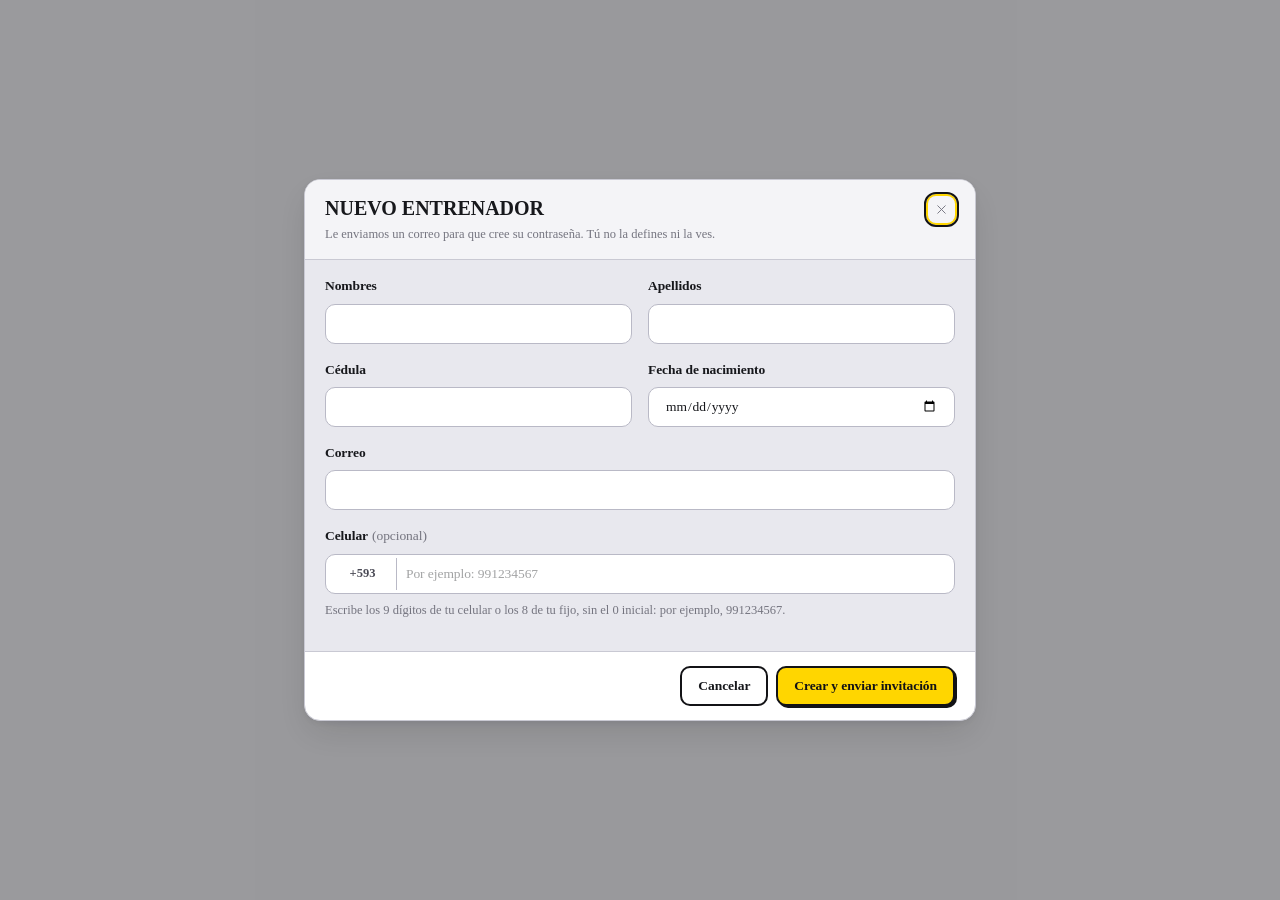
Test case: NewTrainerDialog › blocks the submit and says what is wrong with the celular
The width and height of the screenshot is (1280, 900).
In the field labelled "Nombres": (478, 324) [325, 304, 632, 344], type "Marta"
In the field labelled "Apellidos": (802, 324) [648, 304, 955, 344], type "Zambrano"
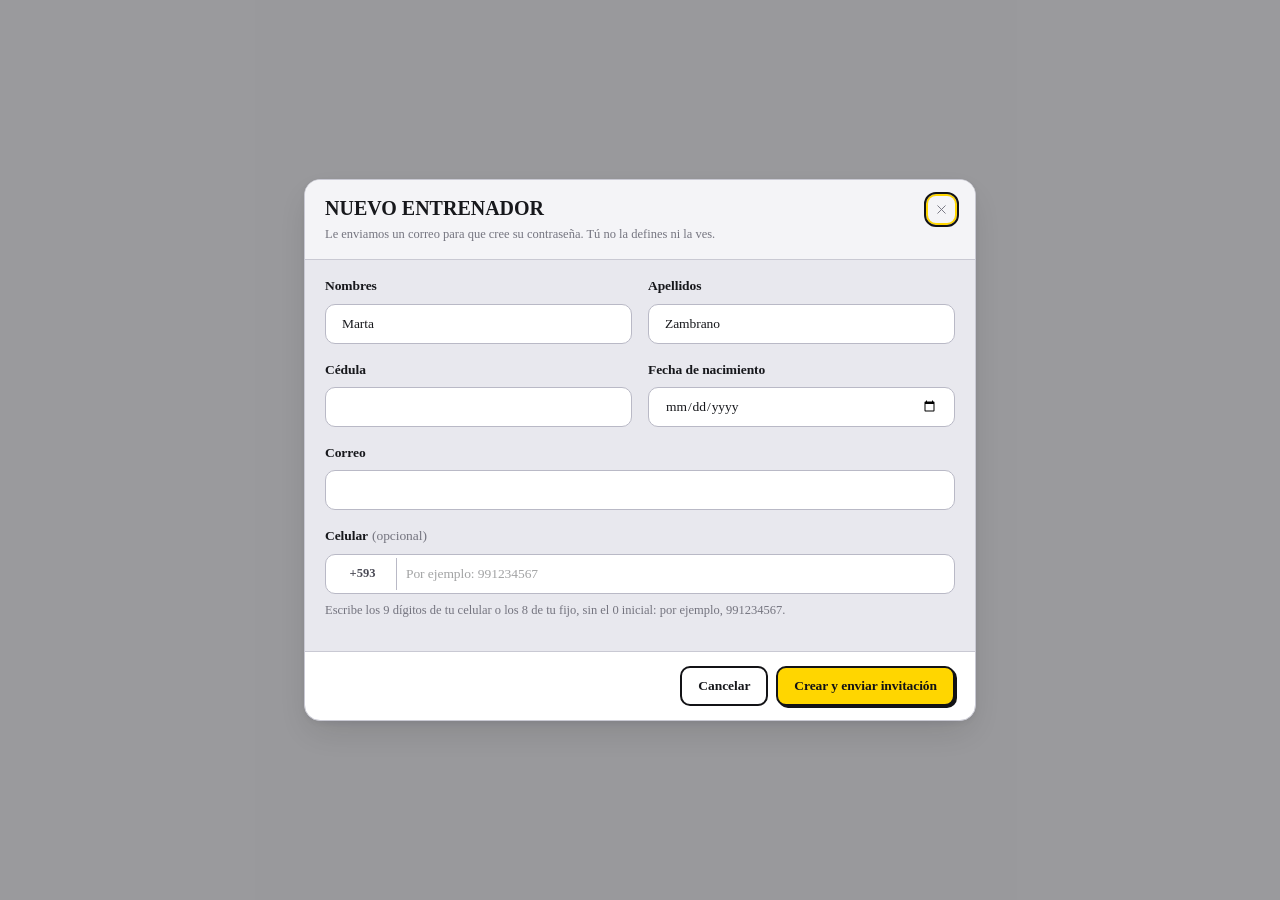
In the field labelled "Cédula": (478, 407) [325, 387, 632, 427], type "1710034065"
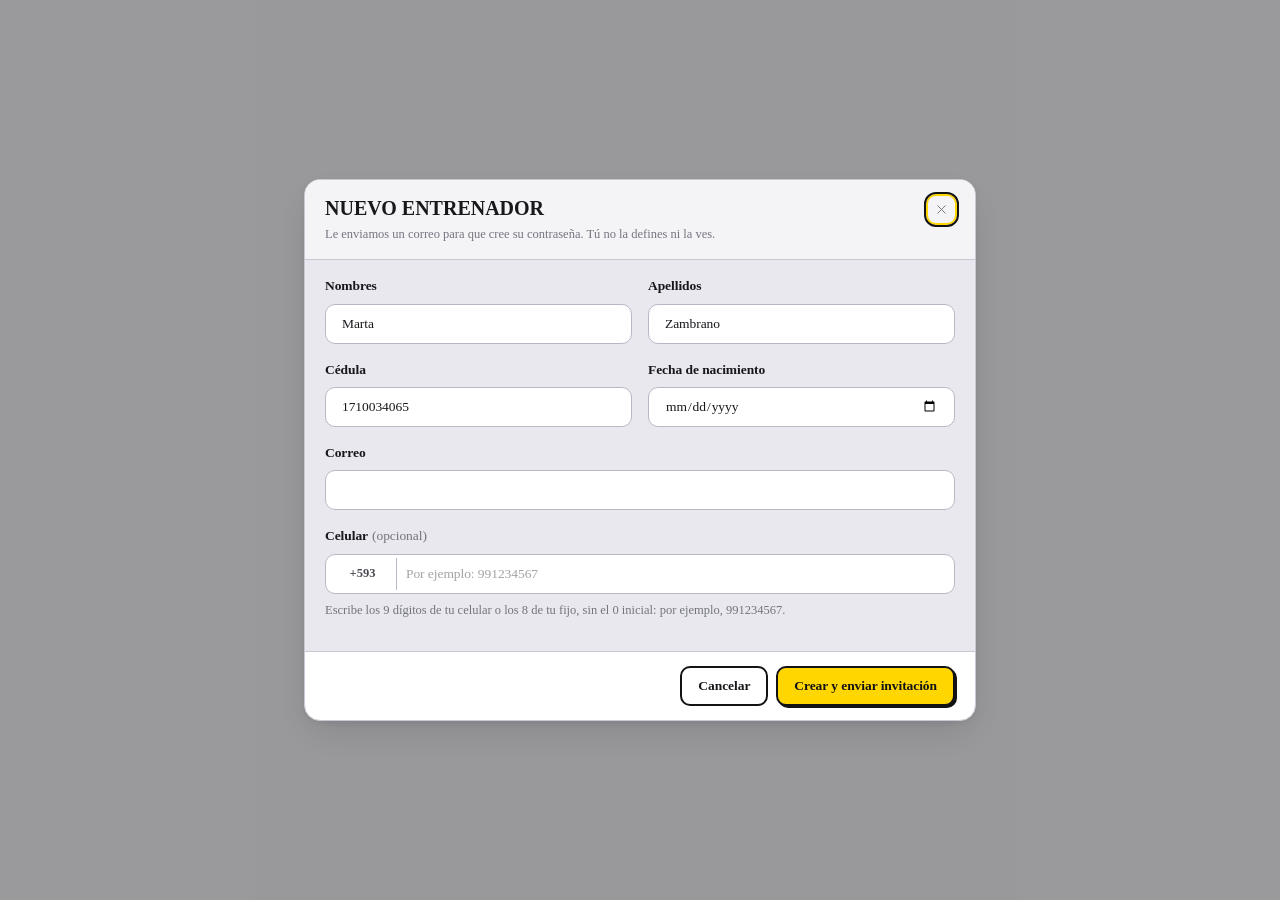
In the date field labelled "Fecha de nacimiento": (802, 407) [648, 387, 955, 427], type "1988-03-02"
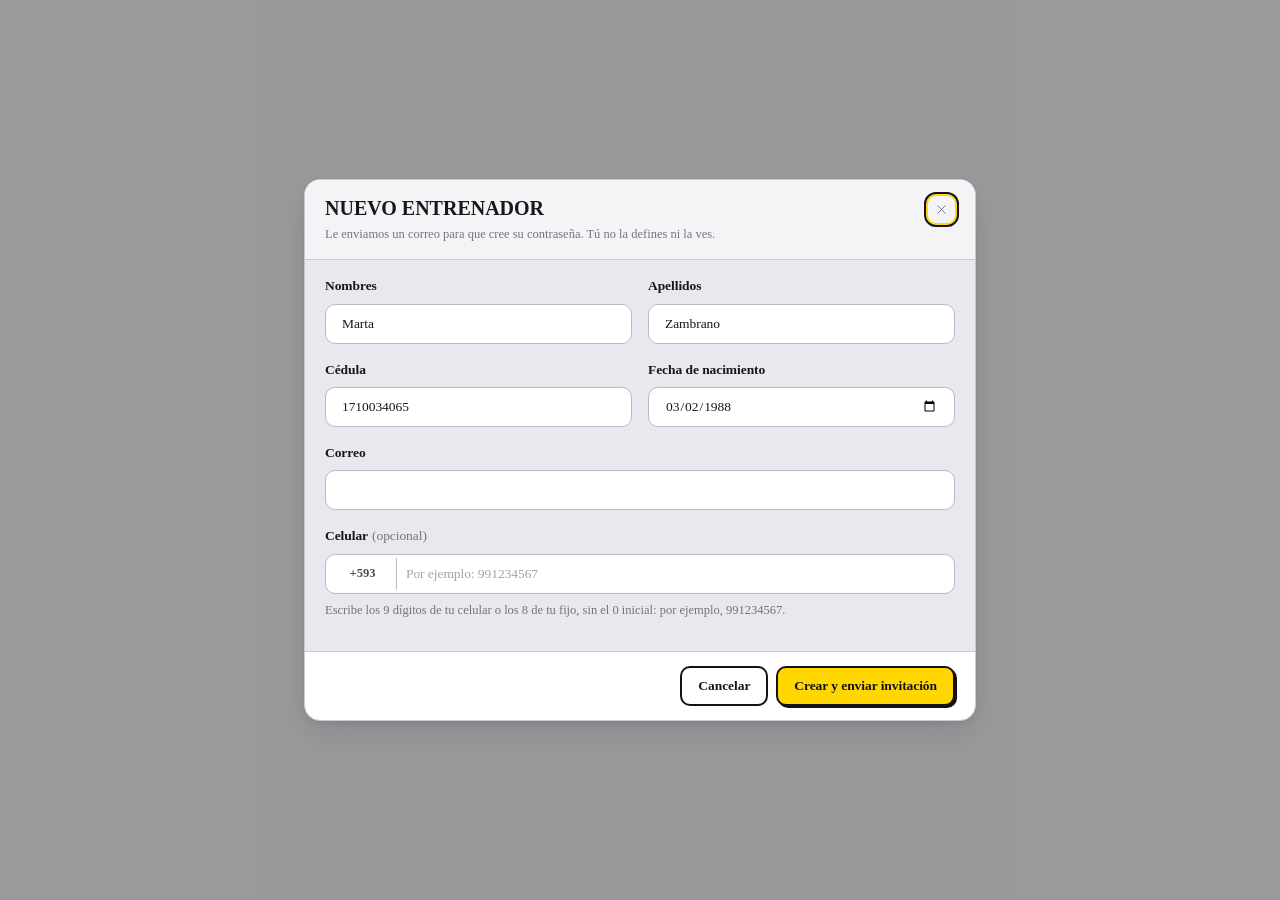
In the field labelled "Correo": (640, 490) [325, 470, 955, 510], type "marta@cataclub.com"
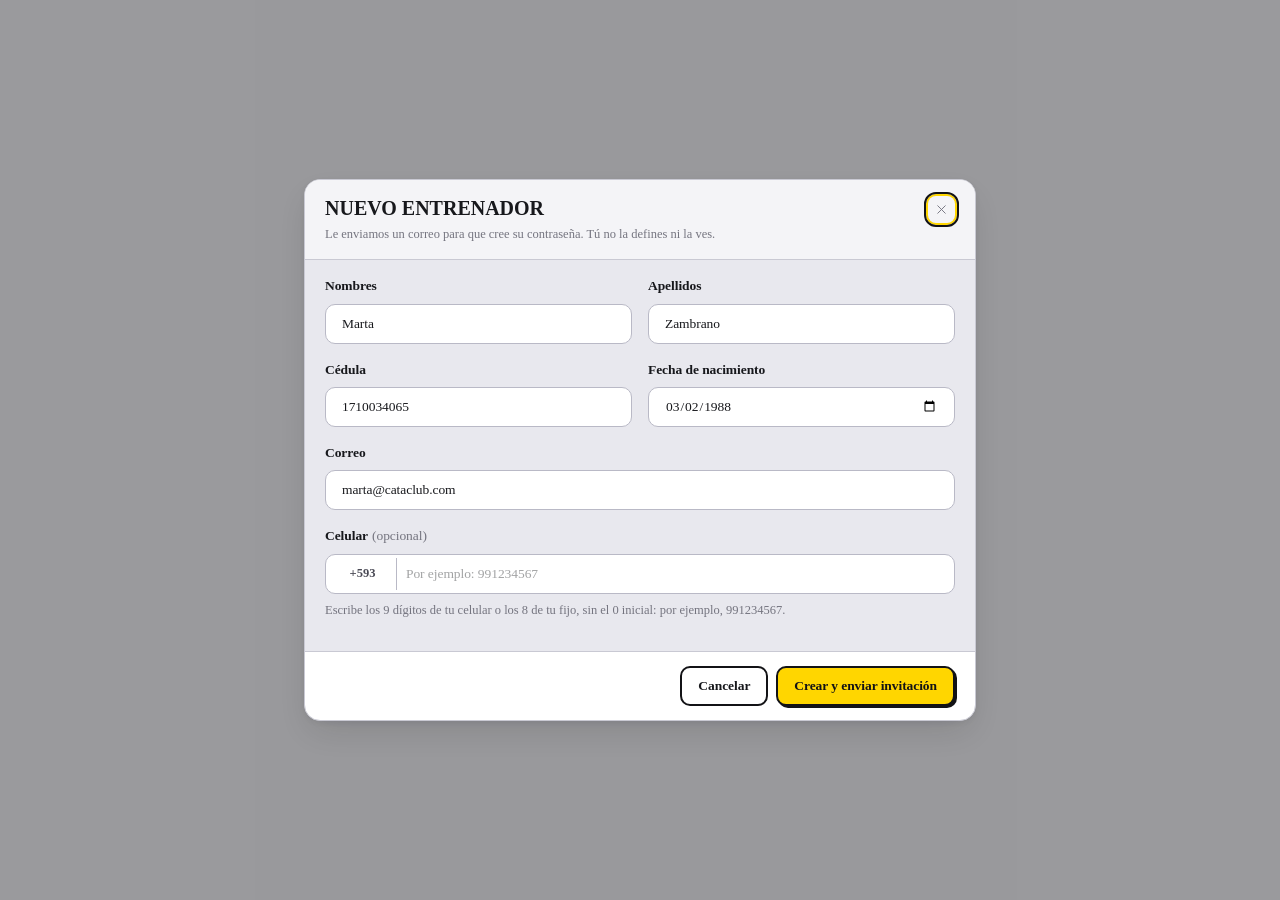
In the field labelled "Celular(opcional)": (640, 574) [325, 554, 955, 594], type "123"
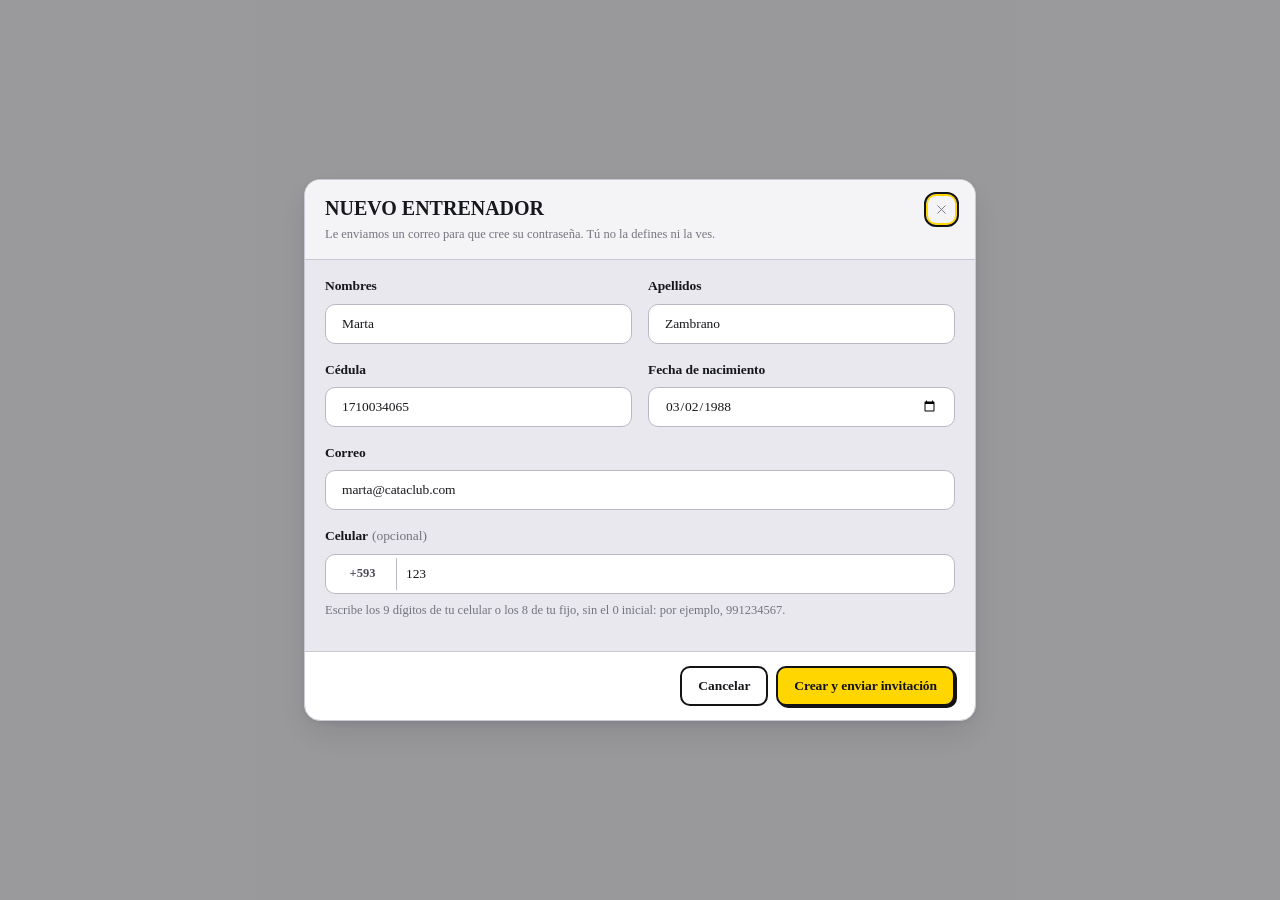
Click the button "Crear y enviar invitación": (866, 686) [776, 666, 955, 706]
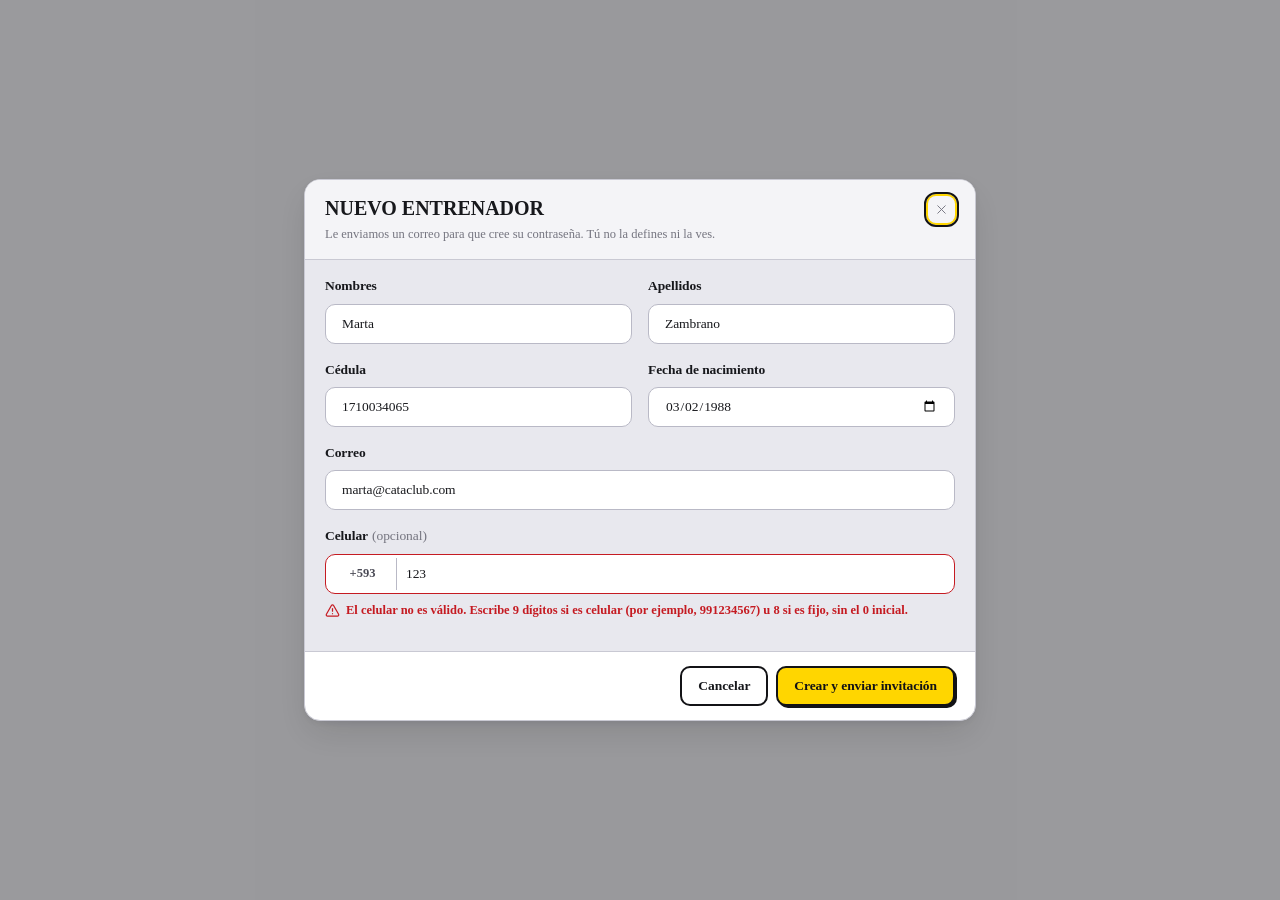
Expected: the text "El celular no es válido" is shown, [346, 603, 908, 617]
